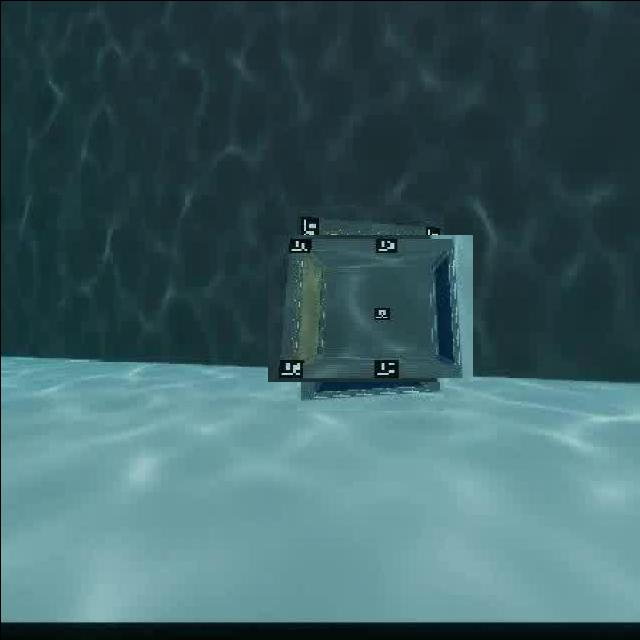Docking Station: (282, 220, 458, 396)
